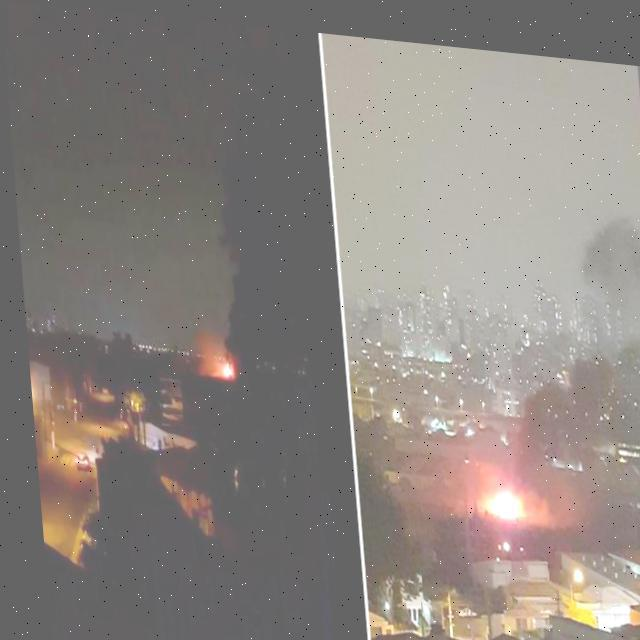Fire: (189, 336, 230, 377), (474, 475, 516, 509)
